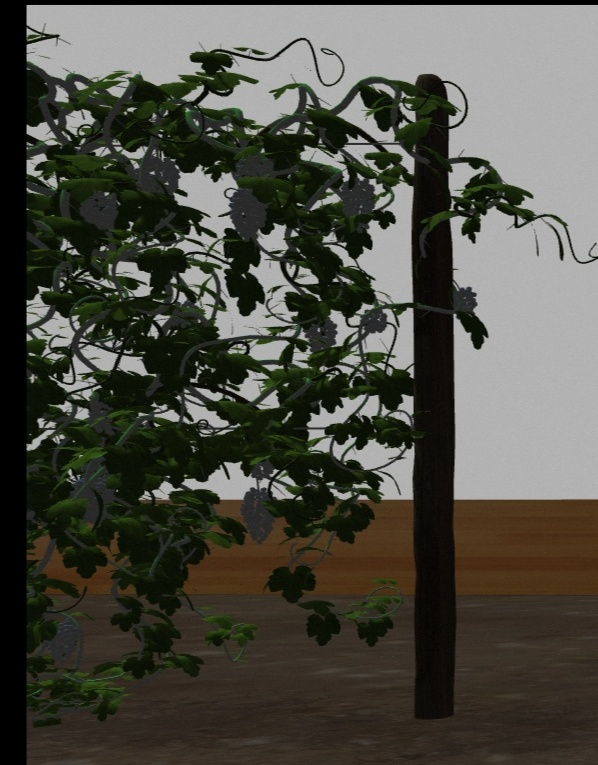grape: (238, 488, 282, 544), (72, 467, 113, 521), (228, 189, 267, 243), (44, 618, 81, 662), (338, 179, 377, 220), (80, 192, 119, 232), (302, 311, 339, 353), (236, 152, 276, 180), (453, 283, 479, 315), (361, 306, 388, 333)
